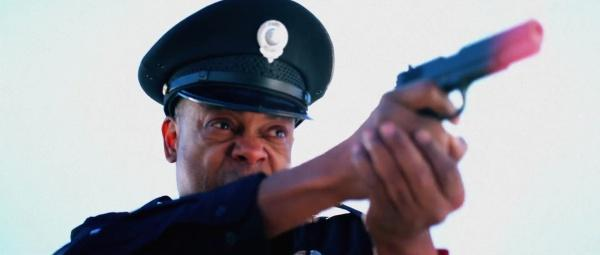Gun: (393, 20, 546, 121)
